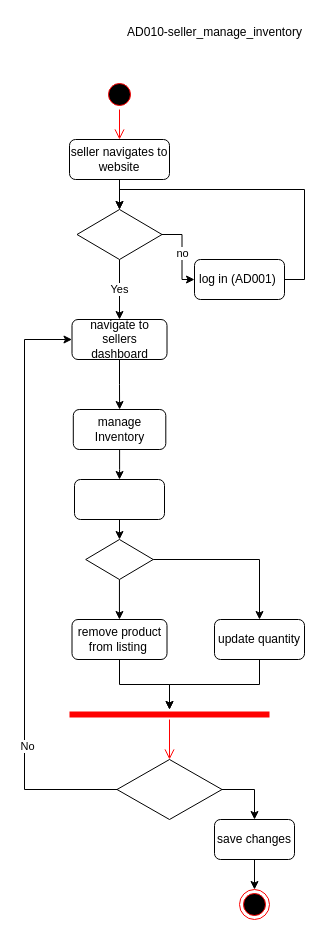
Image size: 332x937. Some labels were removed from this diagram. Here are the shapes that lost their labels. From the top down, the centre of each, then its label:
At [119,234]: "is logged in?".
At [119,499]: "select product".
At [169,789]: "confirm inventory changes".
